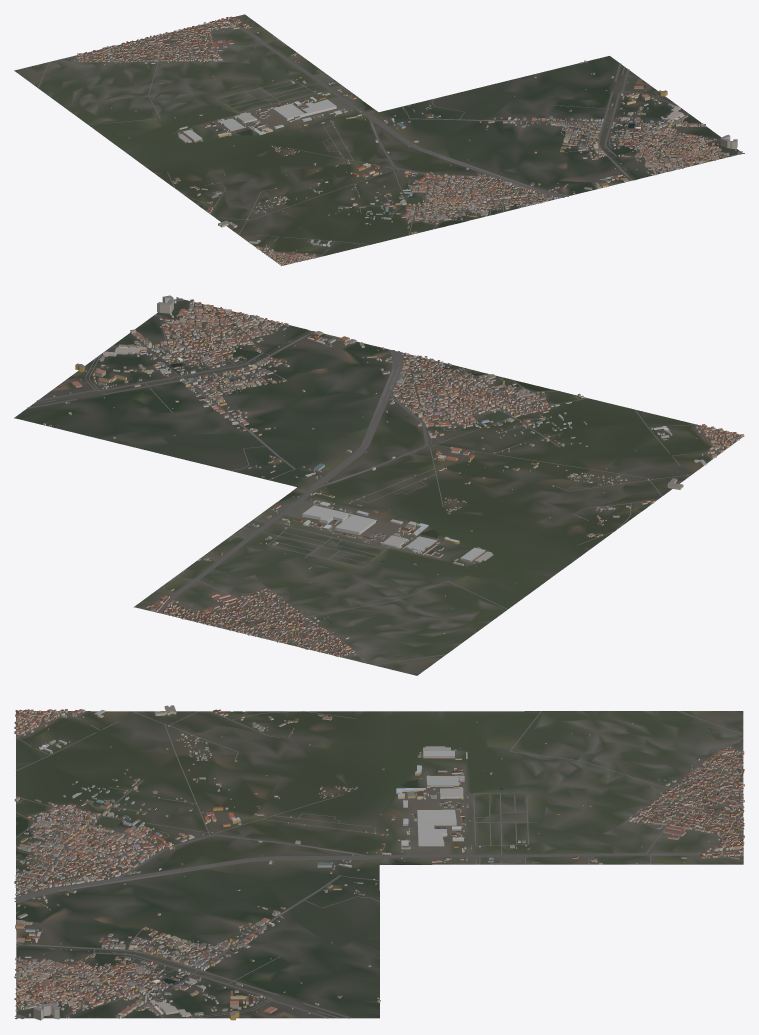
The picture shows the model from 3 angles, top to bottom: view 1: azimuth 30°, elevation 25°; view 2: azimuth 150°, elevation 25°; view 3: azimuth 270°, elevation 25°; orthographic projection. The views are drawn at different scales.
Visible parts, largest first — view 1: ground, buildings, roads, water; view 2: ground, buildings, roads, water; view 3: ground, buildings, roads, water.
Part boxes in pixels (<box>): ground: <box>14,14,742,265</box>; buildings: <box>73,16,737,265</box>; roads: <box>38,18,744,265</box>; water: <box>198,66,635,227</box>; ground: <box>14,299,744,675</box>; buildings: <box>43,295,743,657</box>; roads: <box>27,297,744,665</box>; water: <box>32,330,646,562</box>; ground: <box>16,711,743,1018</box>; buildings: <box>14,705,744,1020</box>; roads: <box>14,711,743,1019</box>; water: <box>16,711,502,1018</box>.
Size of the model in its own units: 2851 by 44.55 by 2817.
